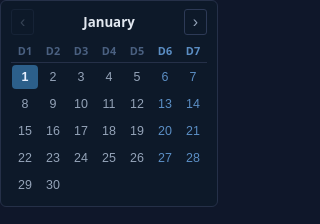
Scenario: CalendarDayPicker › clicking next navigates to the next month
Click the button with class "nav-btn" showing "›" at (195, 22), box [184,9,207,35]
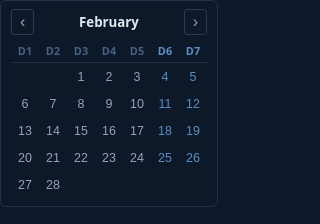
Check: the text with class "month-label" reads "February", box [79,13,139,31]
